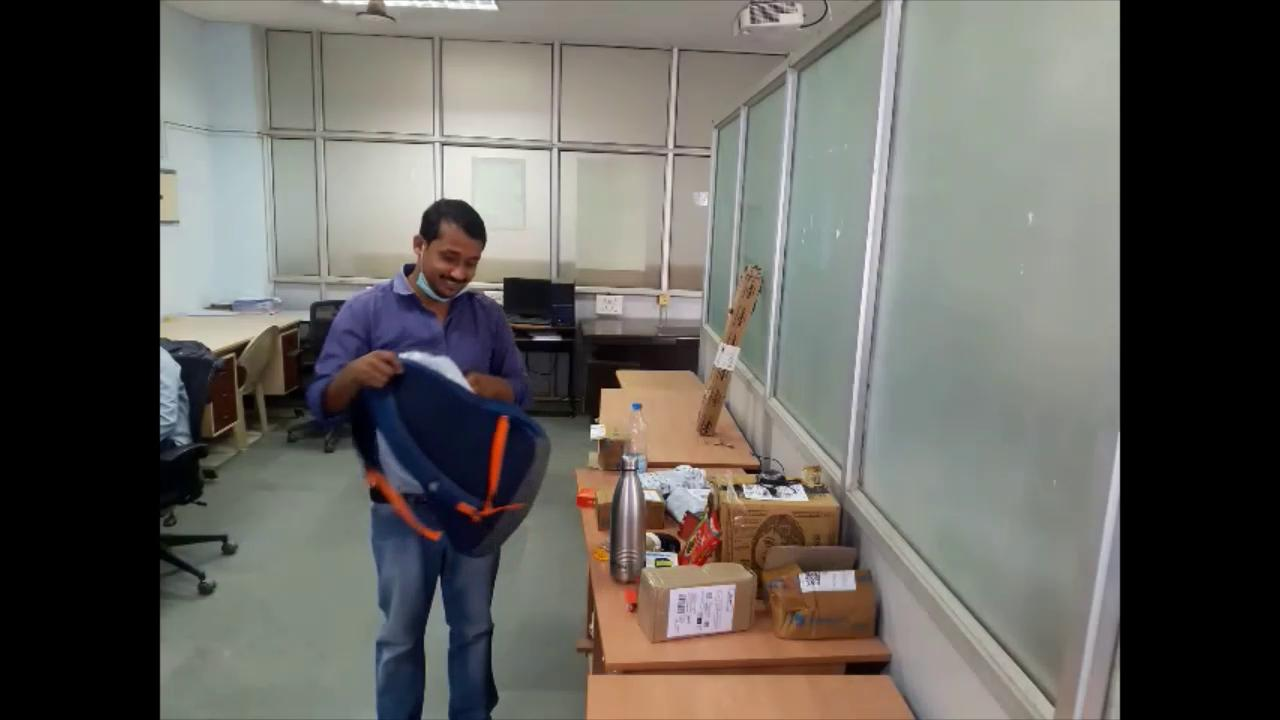shoplifting: (302, 195, 556, 717)
